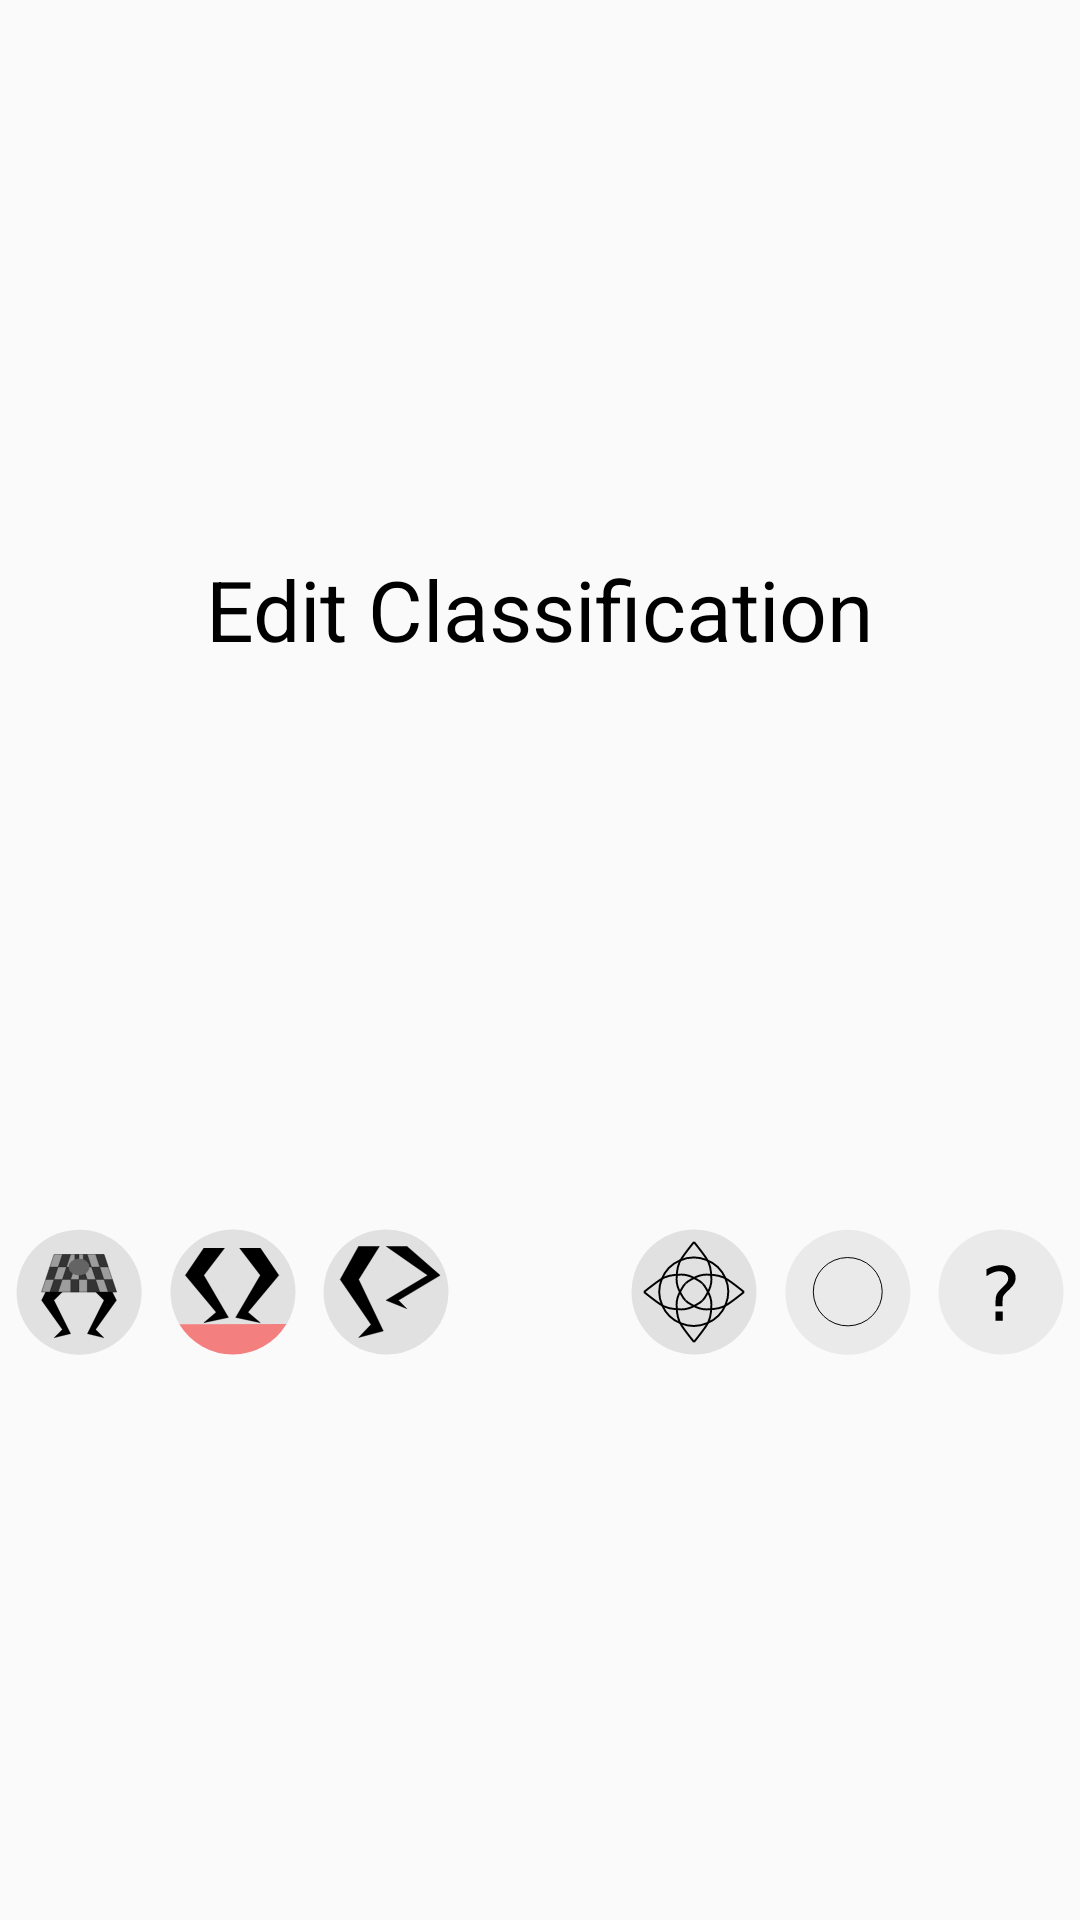

Where to tap for icons on this 1080 × 1920 app screen, as (x,y):
favourite unknown: (1001,1292)
purpose celtic: (694,1292)
purpose scd: (79,1292)
purpose step: (386,1292)
